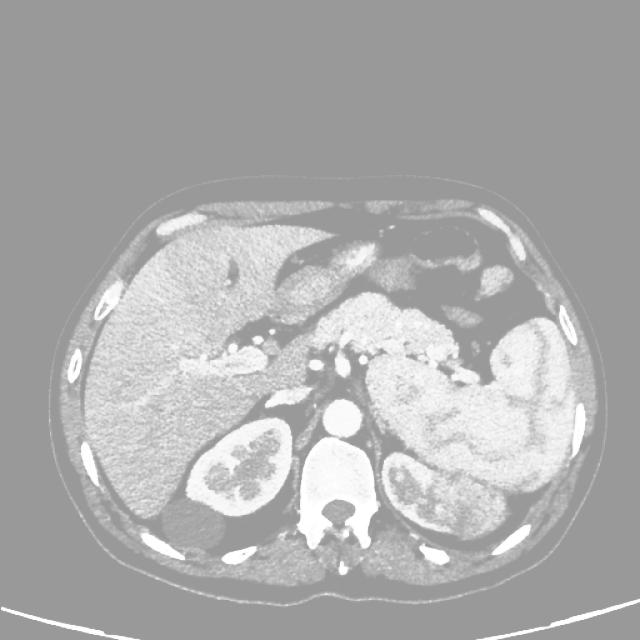TUMOR: (109, 311, 510, 539)
